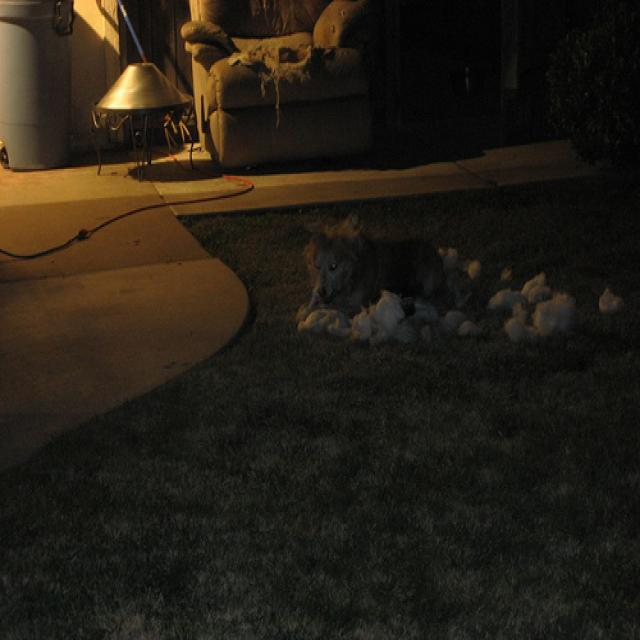Dog: (262, 208, 531, 394)
